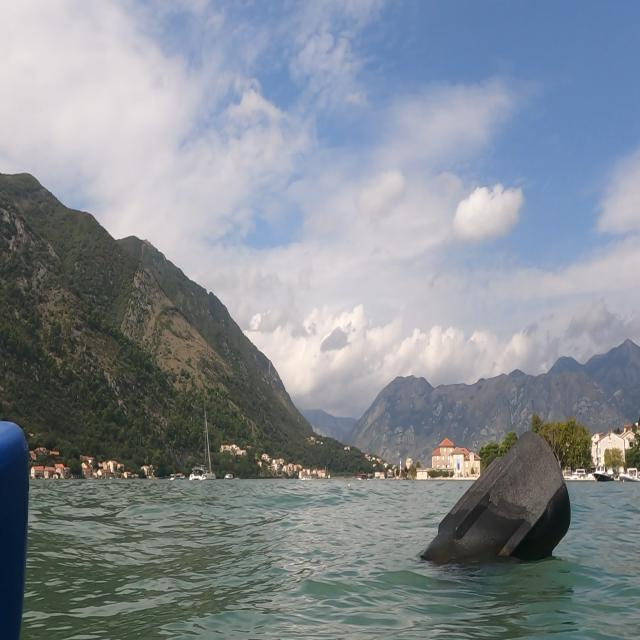boat: (185, 384, 222, 494)
buoy: (418, 428, 574, 574)
